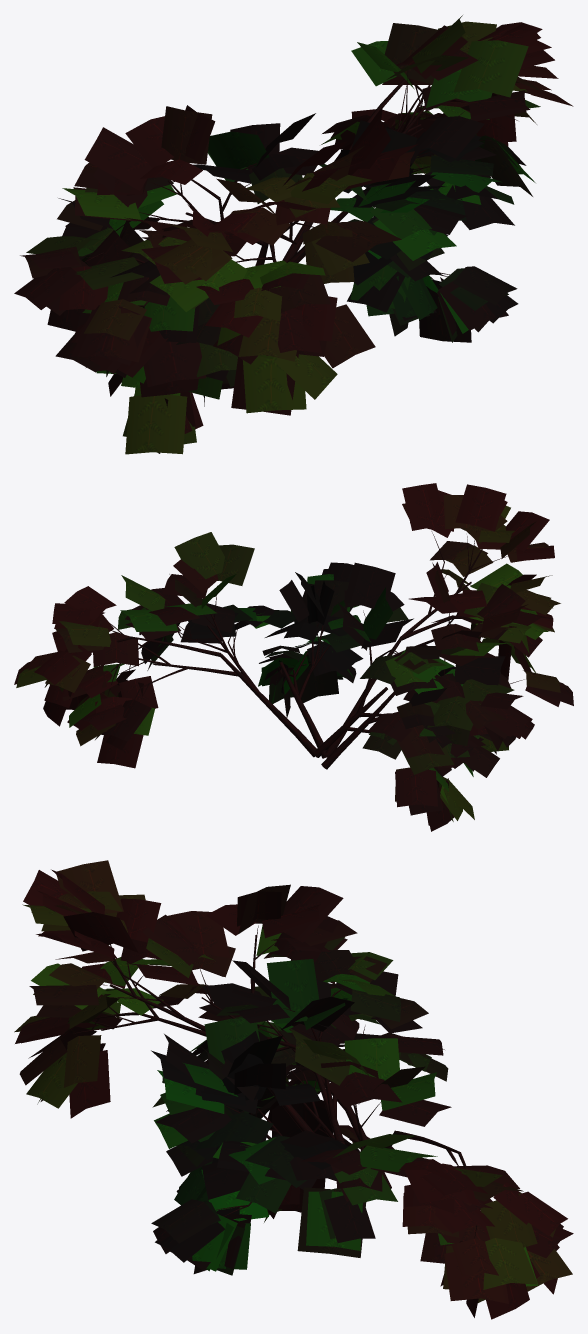
File: prosopis_1.glb
3 renders of one model, top to bottom at view 1: azimuth 30°, elevation 25°; view 2: azimuth 150°, elevation 25°; view 3: azimuth 270°, elevation 25°, orthographic. The views are drawn at different scales.
Visible parts, largest first — view 1: prosopis_1; view 2: prosopis_1; view 3: prosopis_1.
Boxes of the visible parts, bbox=[...] form: prosopis_1: bbox=[14, 15, 573, 454]; prosopis_1: bbox=[14, 483, 573, 831]; prosopis_1: bbox=[14, 860, 573, 1319].
Bounding box in the file's own units: 7.52 × 4.21 × 5.76.
2 materials, 2 textured.
